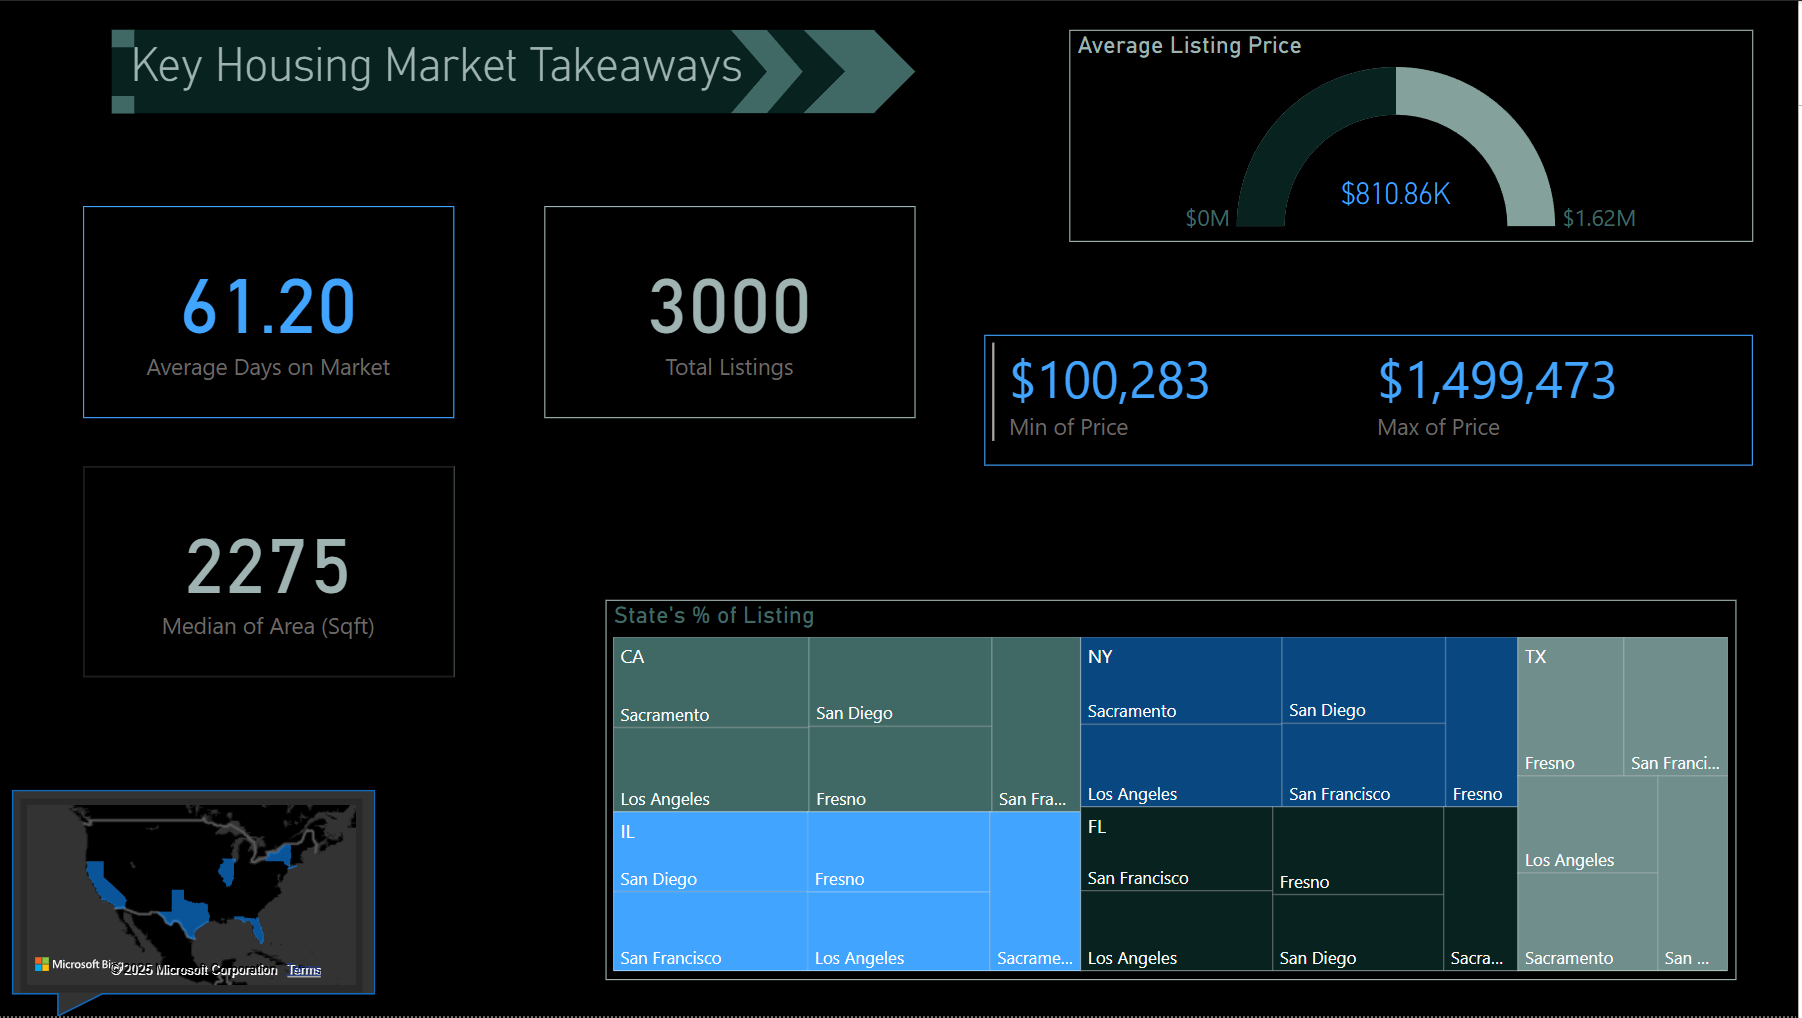

What the dashboard file says about the page in this screenshot:
{"tool":"powerbi","page":{"name":"Key Takeaways","canvas":[1280,720],"ordinal":2},"visuals":[{"type":"shape","box":[13.3,559,257.8,161.2],"z":0},{"type":"gauge","fields":{"Y":["us_house_Sales_data.Average Listing Price"]},"box":[762.8,20.4,484.6,150.6],"z":1000},{"type":"card","fields":{"Values":["us_house_Sales_data.Average Days on Market"]},"box":[63.8,145.3,263.1,150.6],"z":2000},{"type":"card","fields":{"Values":["us_house_Sales_data.Total Listings"]},"box":[390.7,145.3,263.1,150.6],"z":3000},{"type":"filledMap","fields":{"Category":["us_house_Sales_data.State"]},"box":[19.5,565.2,242.7,137.3],"z":4000},{"type":"multiRowCard","fields":{"Values":["Min(us_house_Sales_data.Price)","Max(us_house_Sales_data.Price)"]},"box":[702.5,236.5,544.9,93],"z":6000},{"type":"textbox","box":[84.2,20.4,541.3,59.4],"z":7000},{"type":"shape","box":[574.1,20.4,79.7,59.4],"z":8000},{"type":"shape","box":[522.7,20.4,51.4,59.4],"z":9000},{"type":"shape","box":[84.2,67.3,15.9,12.4],"z":10000},{"type":"shape","box":[84.2,20.4,15.9,12.4],"z":11000},{"type":"treemap","title":"State''s % of Listing","fields":{"Group":["us_house_Sales_data.State"],"Values":["CountNonNull(us_house_Sales_data.State)"],"Details":["us_house_Sales_data.City"]},"box":[434.1,424.4,801.8,269.3],"z":12000},{"type":"card","fields":{"Values":["Median(us_house_Sales_data.Area (Sqft))"]},"box":[63.8,329.6,263.1,149.7],"z":13000}]}

Visuals, with their boxes in screenshot pixels (x1, y1, x2, y2), scaled from the page's 1280x720 canvas onto the 1802x1018 screenshot:
shape: [19, 790, 382, 1017]
gauge - us_house_Sales_data.Average Listing Price: [1074, 29, 1756, 242]
card - us_house_Sales_data.Average Days on Market: [90, 205, 460, 418]
card - us_house_Sales_data.Total Listings: [550, 205, 920, 418]
filledMap - us_house_Sales_data.State: [27, 799, 369, 993]
multiRowCard - Min(us_house_Sales_data.Price) x Max(us_house_Sales_data.Price): [989, 334, 1756, 466]
textbox: [119, 29, 881, 113]
shape: [808, 29, 920, 113]
shape: [736, 29, 808, 113]
shape: [119, 95, 141, 113]
shape: [119, 29, 141, 46]
"State''s % of Listing" treemap: [611, 600, 1740, 981]
card - Median(us_house_Sales_data.Area (Sqft)): [90, 466, 460, 678]
